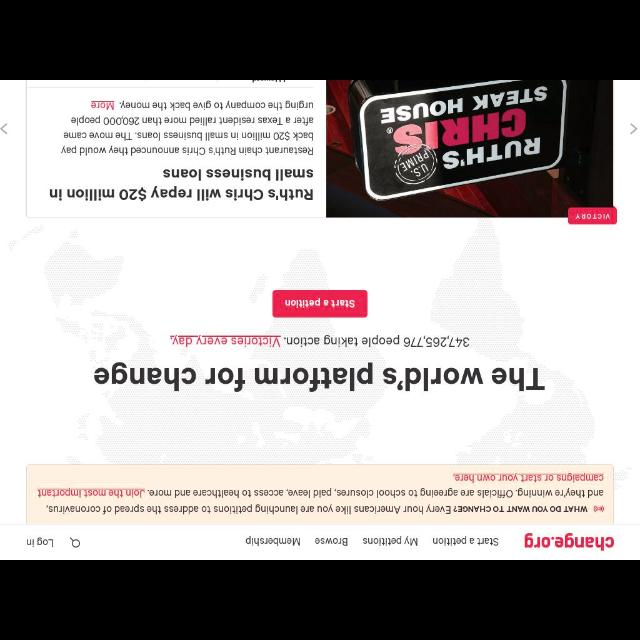backgroundimage: (1, 80, 640, 524)
icon: (69, 536, 81, 550), (630, 122, 638, 136), (1, 122, 8, 136), (594, 506, 604, 512)
iframe: (26, 80, 620, 226), (27, 464, 613, 524)
image: (327, 80, 613, 218), (524, 534, 614, 552)
text: (50, 101, 314, 201), (94, 334, 546, 392), (38, 472, 604, 514), (285, 298, 355, 308), (433, 536, 499, 546), (362, 536, 418, 546), (244, 536, 300, 546), (26, 538, 54, 548), (314, 538, 348, 546), (576, 213, 610, 219)
textbutton: (272, 290, 368, 318)
toolbar: (1, 524, 639, 558)
